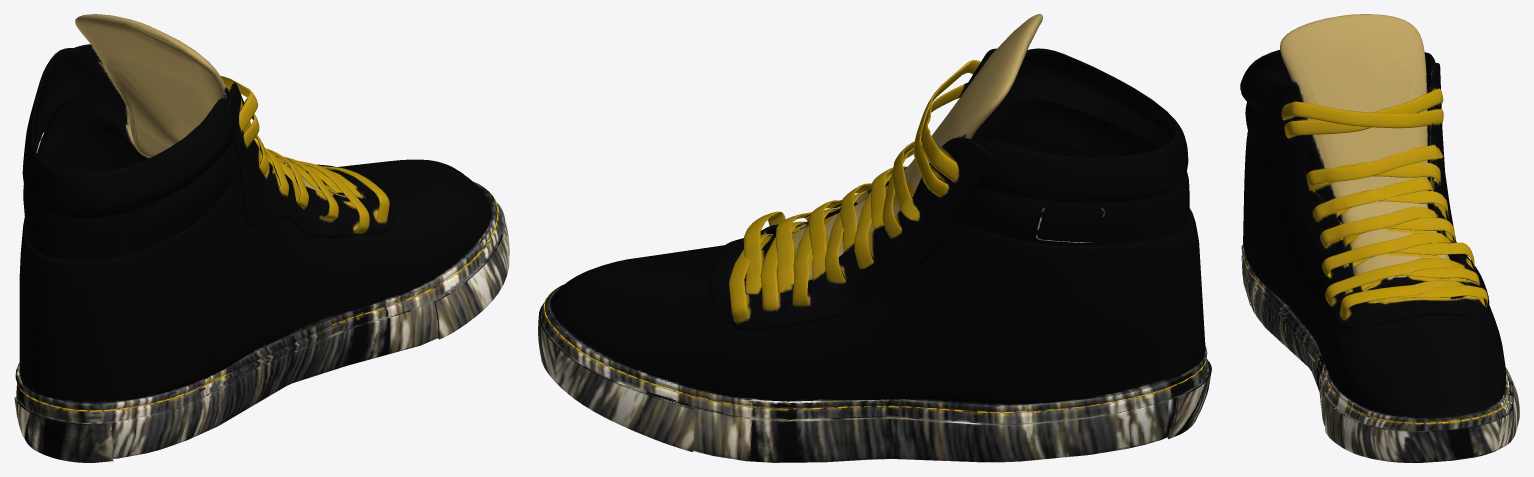
Rendered from shoe.glb.
3 renders of one model, left to right at view 1: azimuth 30°, elevation 25°; view 2: azimuth 150°, elevation 25°; view 3: azimuth 270°, elevation 25°, orthographic. The views are drawn at different scales.
Visible parts, largest first — view 1: outsole.006; view 2: outsole.006; view 3: outsole.006.
Boxes of the visible parts, x1=… form: outsole.006: x1=14, y1=14, x2=509, y2=462; outsole.006: x1=538, y1=14, x2=1211, y2=462; outsole.006: x1=1240, y1=14, x2=1519, y2=462.
Bounding box in the file's own units: 0.4759 × 0.3171 × 0.2589.
1 material, 1 textured.
